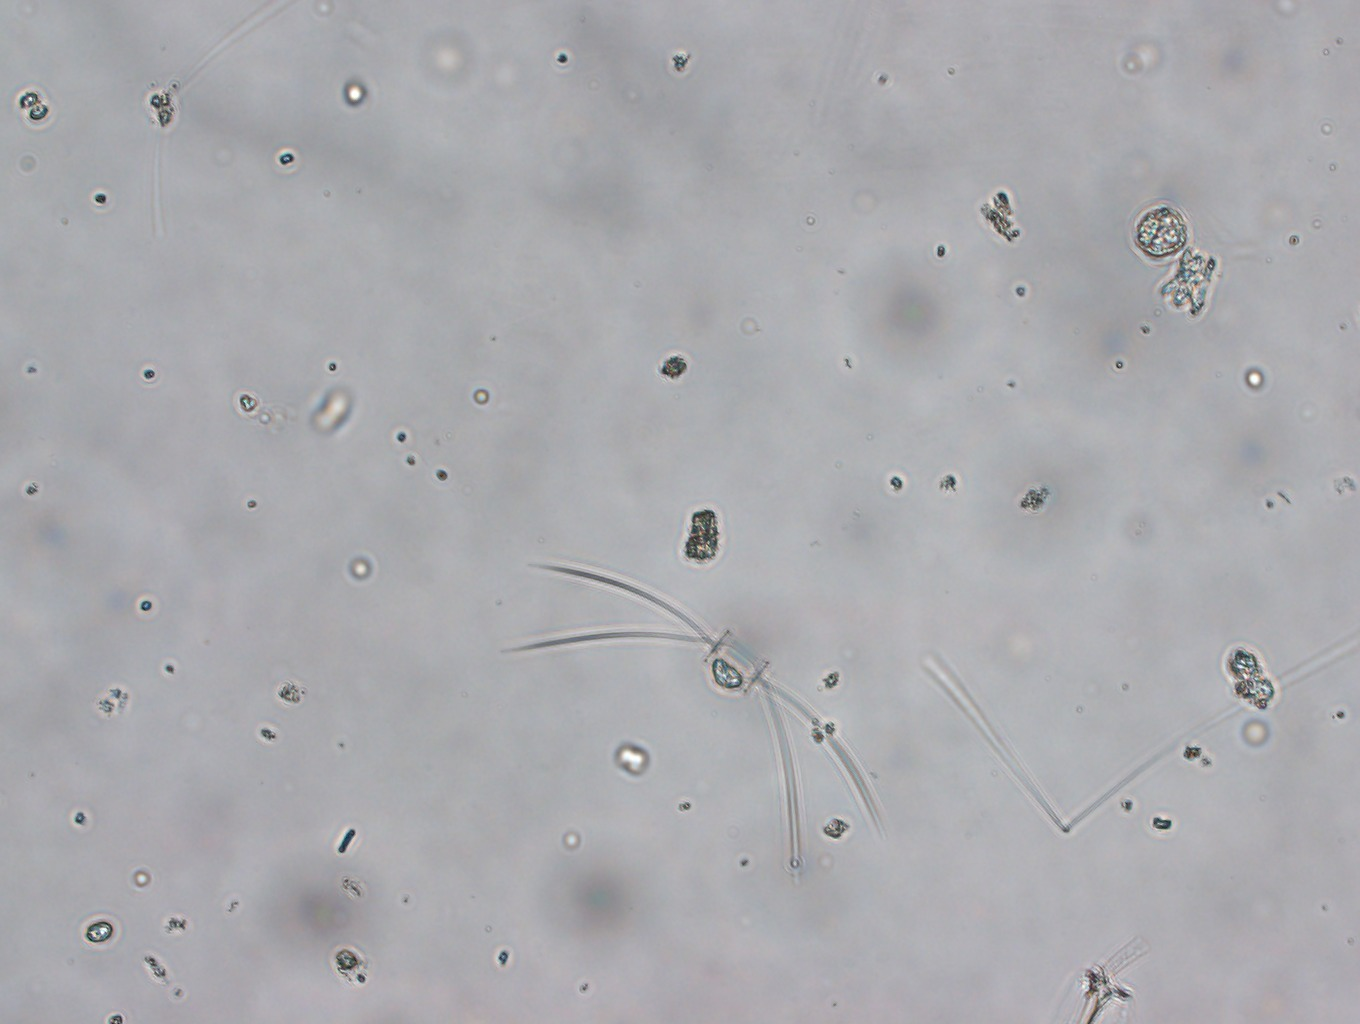chaetoceros: (501, 564, 899, 876)
